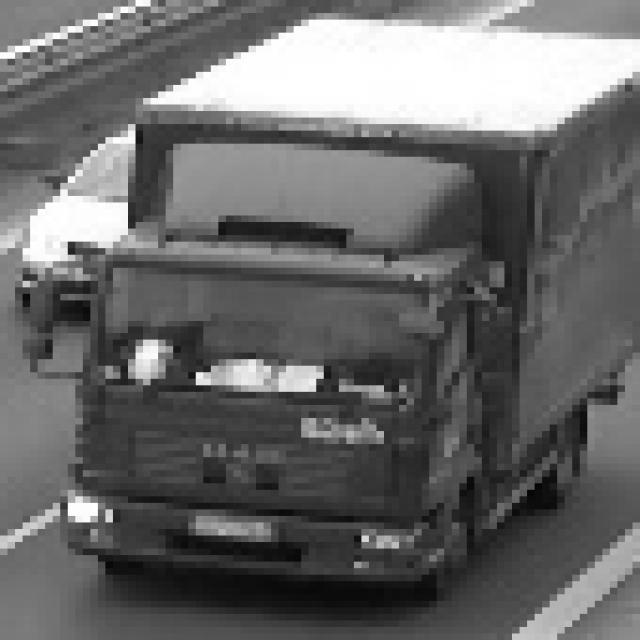truck: (49, 130, 537, 595)
